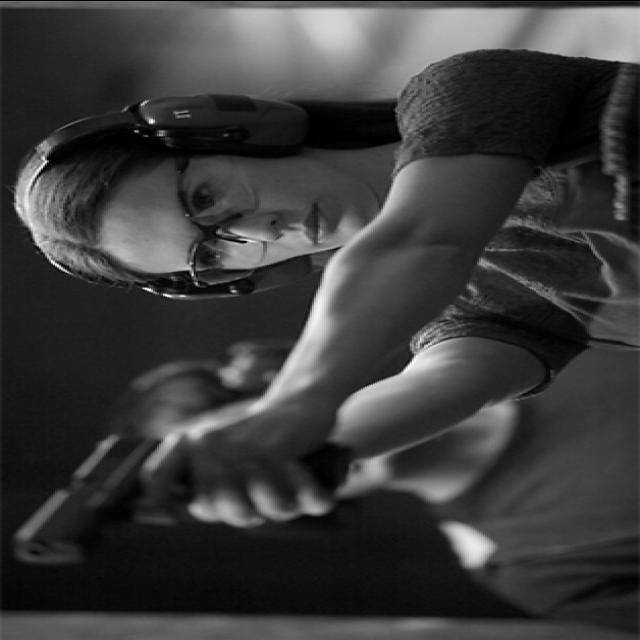weapons: (2, 418, 344, 574)
